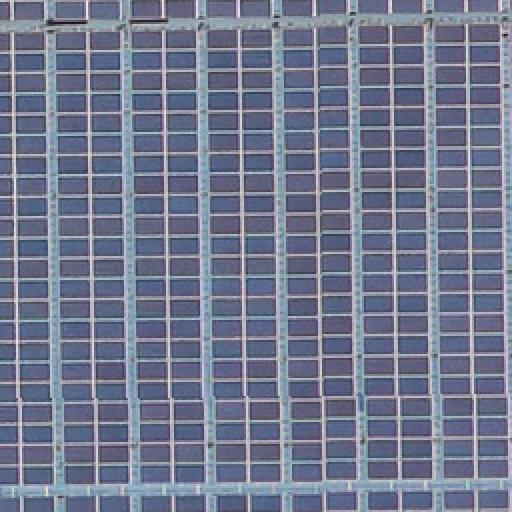solar-panel: (280, 25, 360, 479), (357, 22, 435, 478), (129, 29, 207, 483), (429, 21, 507, 475), (53, 30, 131, 482), (208, 25, 280, 479), (1, 29, 55, 483), (442, 489, 510, 511), (367, 489, 433, 511), (291, 492, 357, 512), (140, 496, 208, 512), (52, 0, 120, 16), (67, 496, 133, 512), (215, 496, 281, 512), (131, 0, 197, 16), (206, 0, 270, 16), (354, 1, 422, 15), (279, 1, 345, 15), (0, 496, 56, 512), (430, 0, 498, 12), (1, 0, 47, 16), (505, 0, 511, 12)
